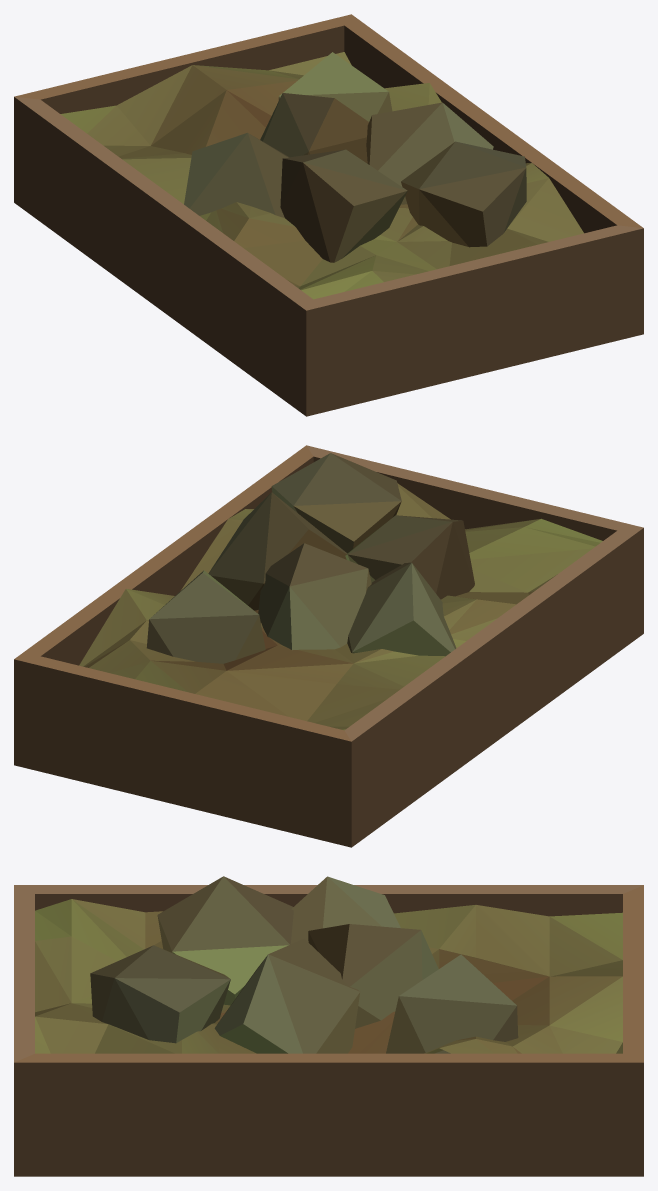
The model's file is Prop_FoodBoxG.fbx.
3 renders of one model, top to bottom at view 1: azimuth 30°, elevation 25°; view 2: azimuth 150°, elevation 25°; view 3: azimuth 270°, elevation 25°, orthographic. The views are drawn at different scales.
Visible parts, largest first — view 1: Prop_FoodBoxG; view 2: Prop_FoodBoxG; view 3: Prop_FoodBoxG.
Part boxes in pixels (x1,y1,x2,y2): Prop_FoodBoxG: (14,14,643,416); Prop_FoodBoxG: (14,445,643,847); Prop_FoodBoxG: (14,876,643,1176).
Bounding box in the file's own units: 50 × 23.47 × 75.
